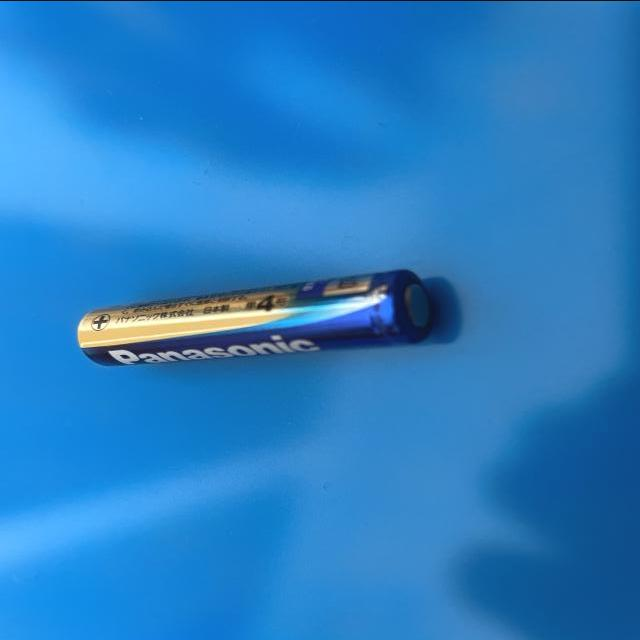AAA: (76, 264, 436, 368)
